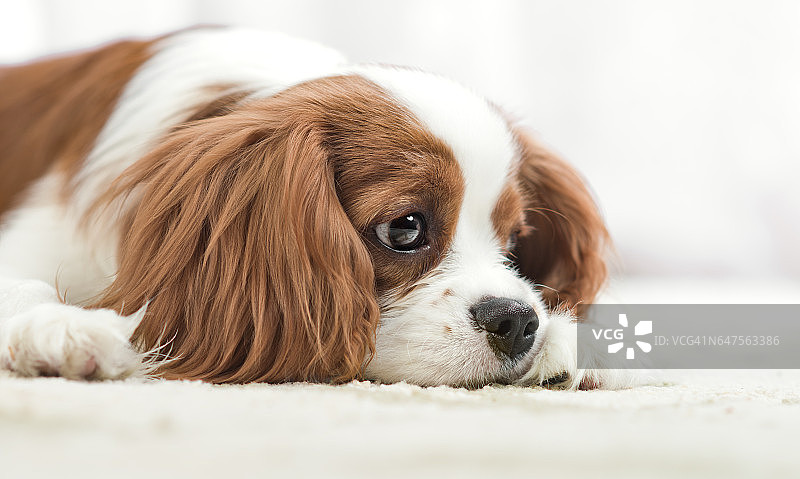dog: (1, 21, 673, 391)
